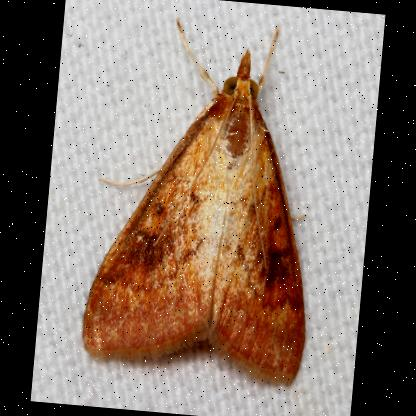Asian Corn Borer Moth: (74, 4, 336, 391)
